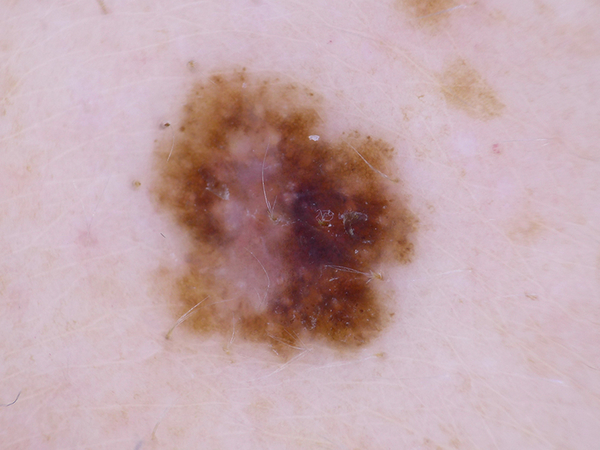Detected Lesion: (144, 57, 424, 367)
